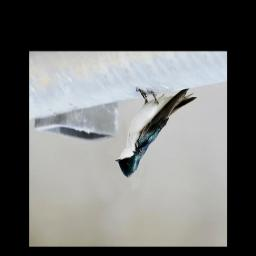Swallow: (114, 84, 198, 180)
